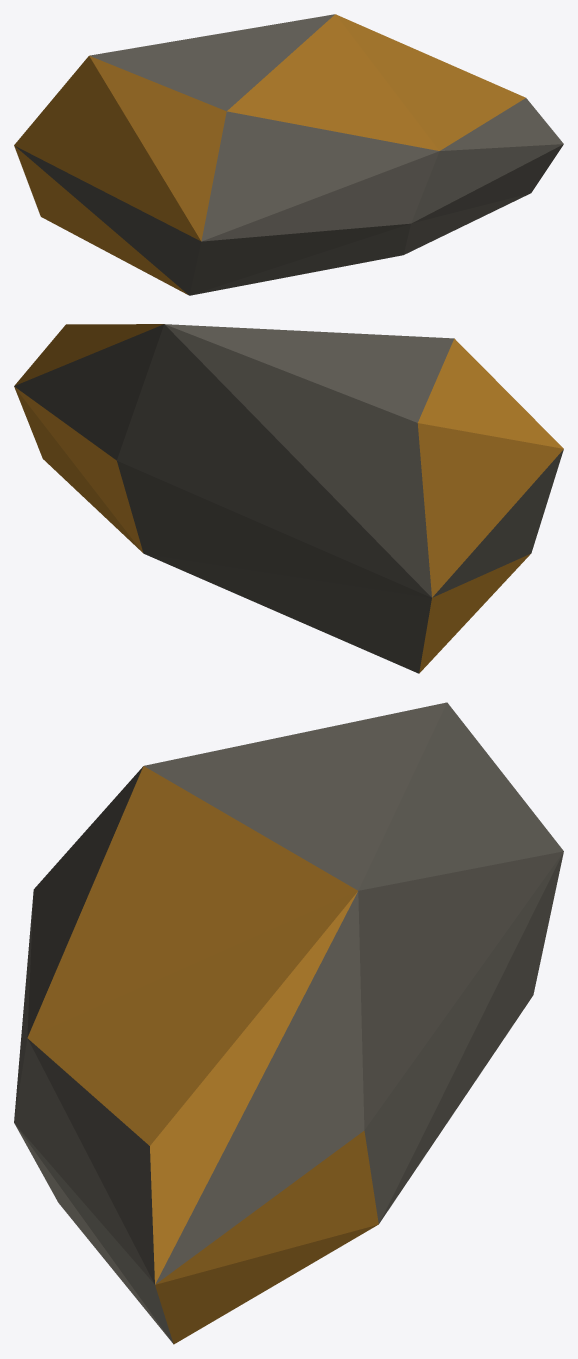
File: ore_gold_v03_lod2.glb
The picture shows the model from 3 angles, top to bottom: view 1: azimuth 30°, elevation 25°; view 2: azimuth 150°, elevation 25°; view 3: azimuth 270°, elevation 25°; orthographic projection. The views are drawn at different scales.
Visible parts, largest first — view 1: ore_gold_v03_lod2; view 2: ore_gold_v03_lod2; view 3: ore_gold_v03_lod2.
Boxes of the visible parts, left/top/right/bottom form: ore_gold_v03_lod2: left=14, top=14, right=563, bottom=295; ore_gold_v03_lod2: left=14, top=324, right=563, bottom=673; ore_gold_v03_lod2: left=14, top=702, right=563, bottom=1344.
Size of the model in its own units: 2.42 by 0.9371 by 1.44.
